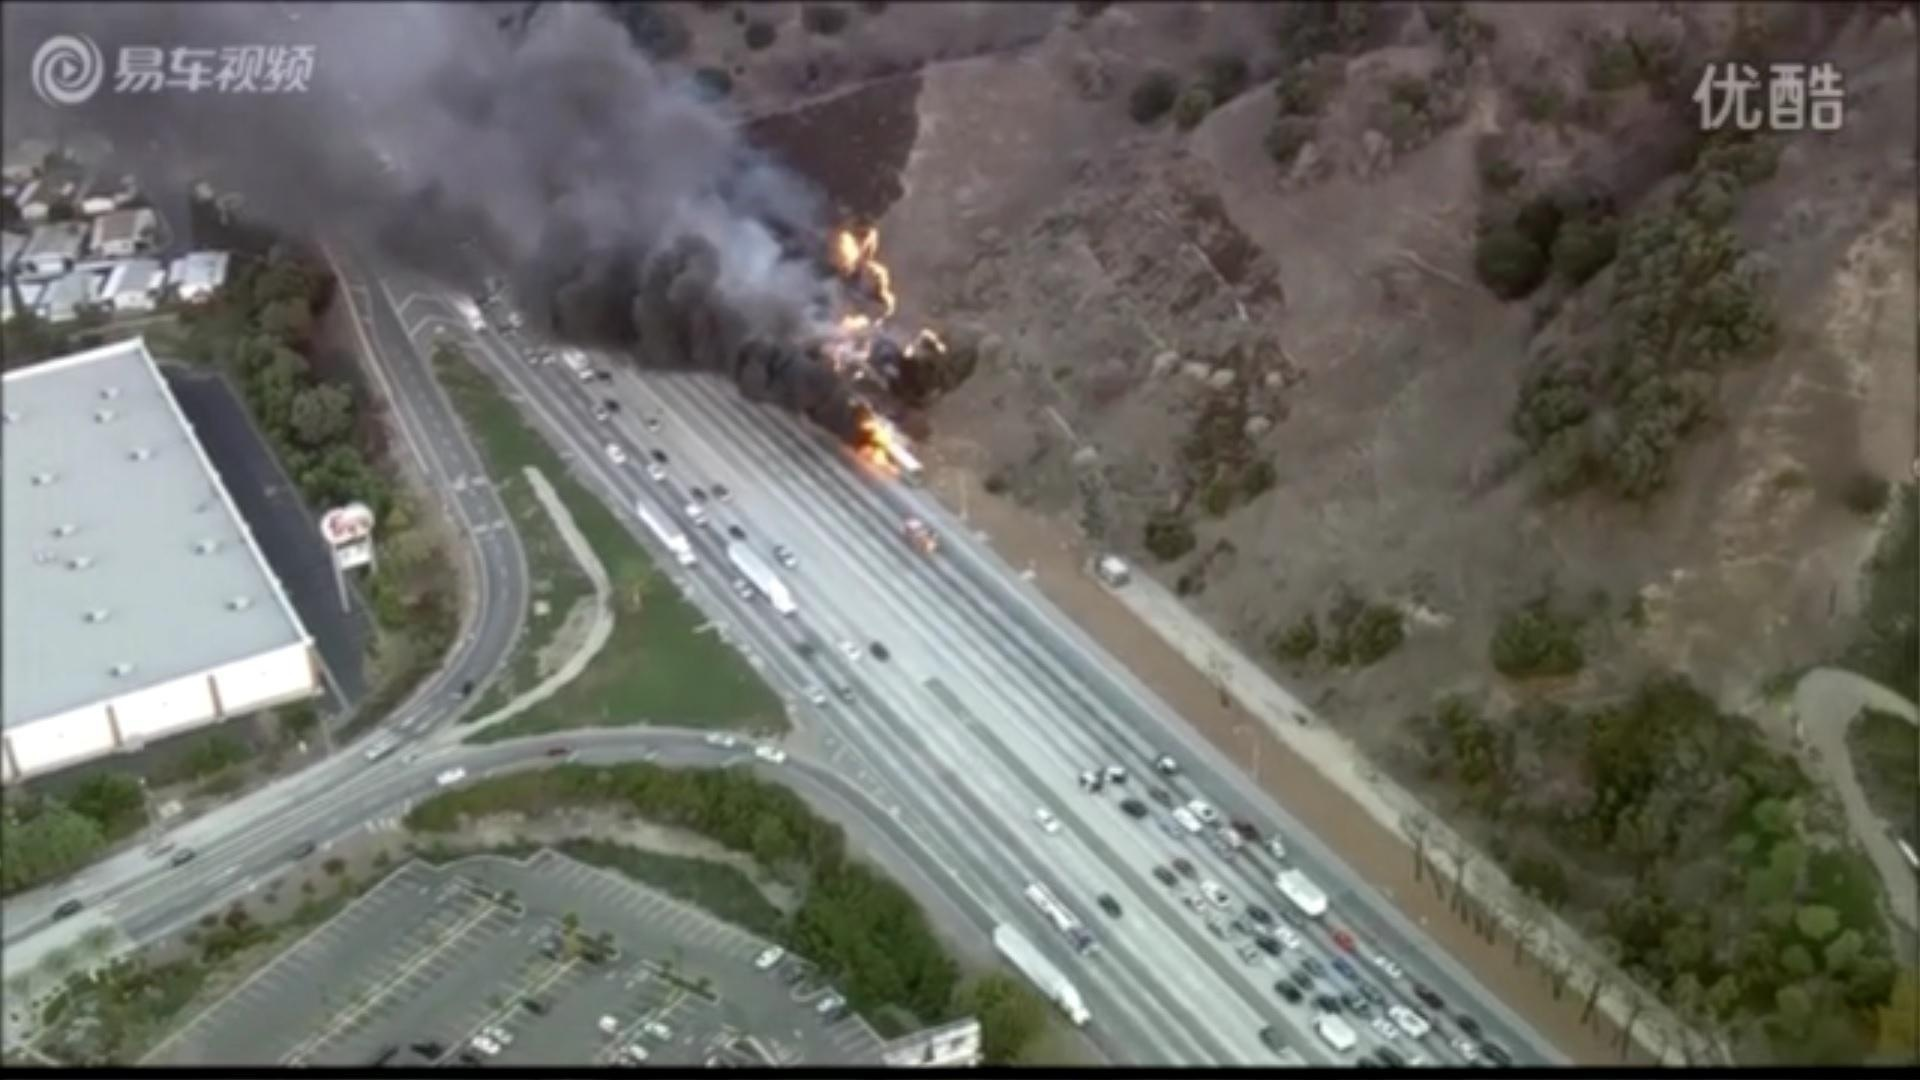fire: (835, 220, 891, 310), (849, 409, 902, 477)
